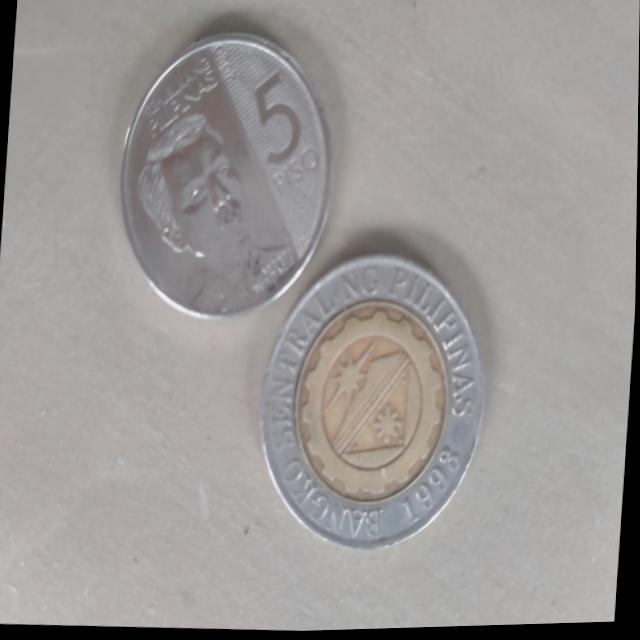10_Old_Back: (252, 246, 494, 561)
5_New_Front: (236, 45, 329, 211)
